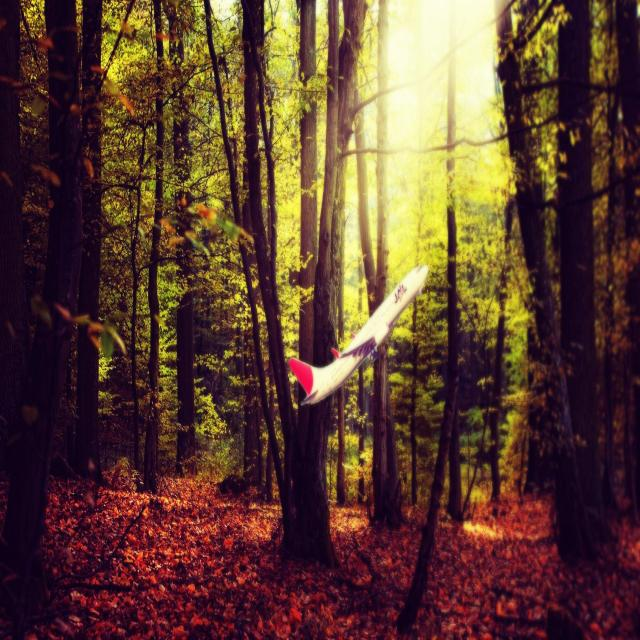airplane: (288, 263, 429, 407)
